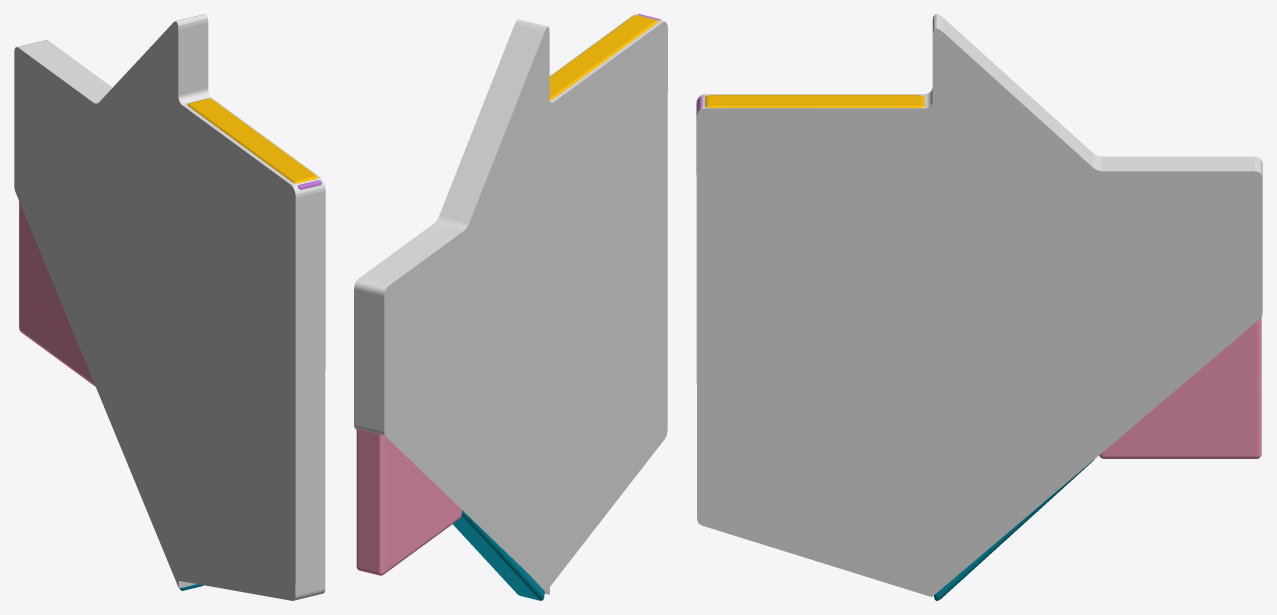
The model's file is Casa 1.fbx.
The picture shows the model from 3 angles, left to right: view 1: azimuth 30°, elevation 25°; view 2: azimuth 150°, elevation 25°; view 3: azimuth 270°, elevation 25°; orthographic projection.
Parts seen in each view (by area): view 1: Plane, Template_007, Template_003; view 2: Plane, Template_007, Template_003, Template_004; view 3: Plane, Template_007, Template_003, Template_004.
Part boxes in pixels (<box>): Plane: <box>14,14,325,600</box>; Template_007: <box>19,201,95,386</box>; Template_003: <box>187,98,318,183</box>; Plane: <box>354,14,667,594</box>; Template_007: <box>356,428,461,575</box>; Template_003: <box>549,15,657,100</box>; Template_004: <box>453,510,544,600</box>; Plane: <box>696,14,1262,596</box>; Template_007: <box>1099,317,1261,458</box>; Template_003: <box>705,95,924,107</box>; Template_004: <box>934,459,1094,600</box>.
Size of the model in its own units: 66.51 by 1215 by 1087.
